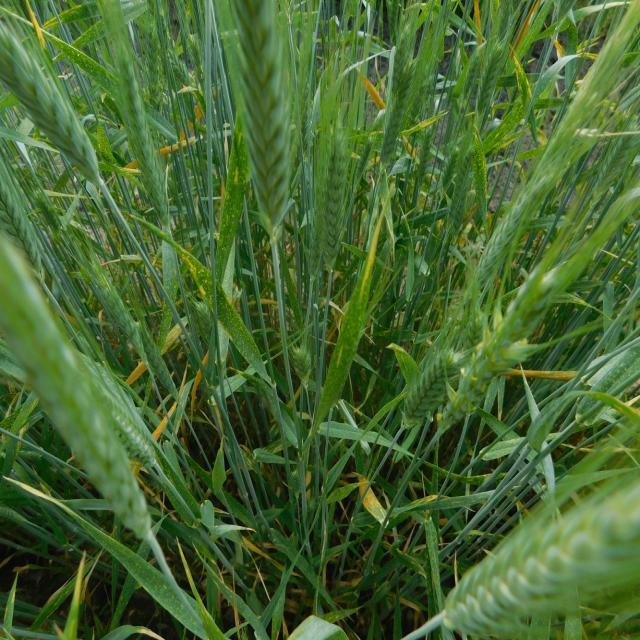Yellow_Rust: (282, 202, 467, 548), (132, 214, 270, 383)
